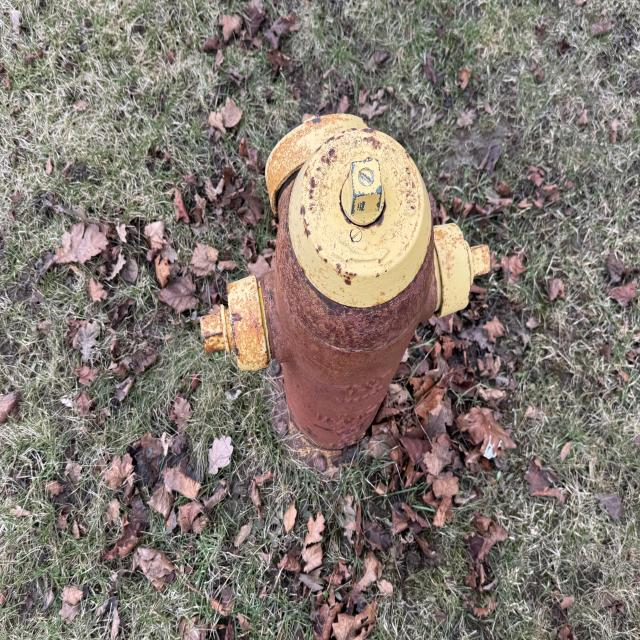Fire hydrant: (199, 112, 492, 485)
